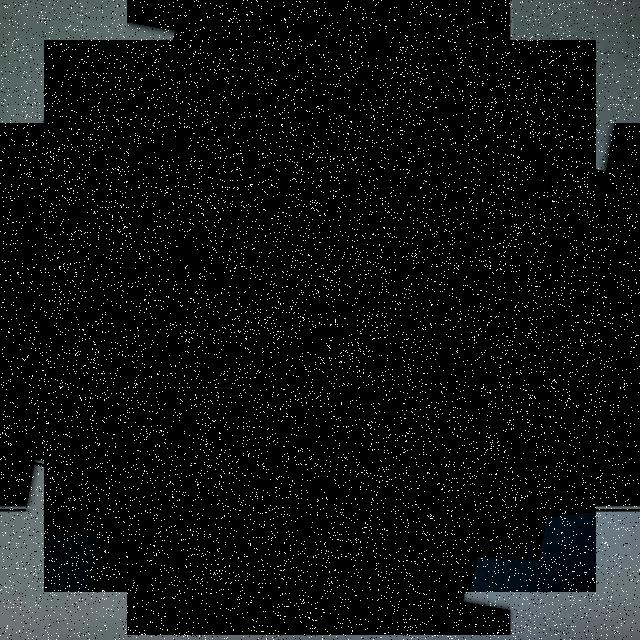lima puluh ribu rupiah: (44, 40, 596, 592)
